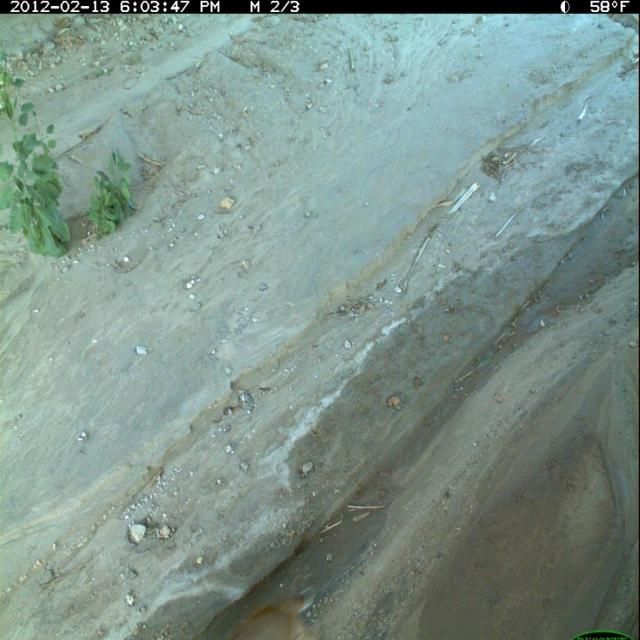bobcat: (217, 583, 325, 640)
